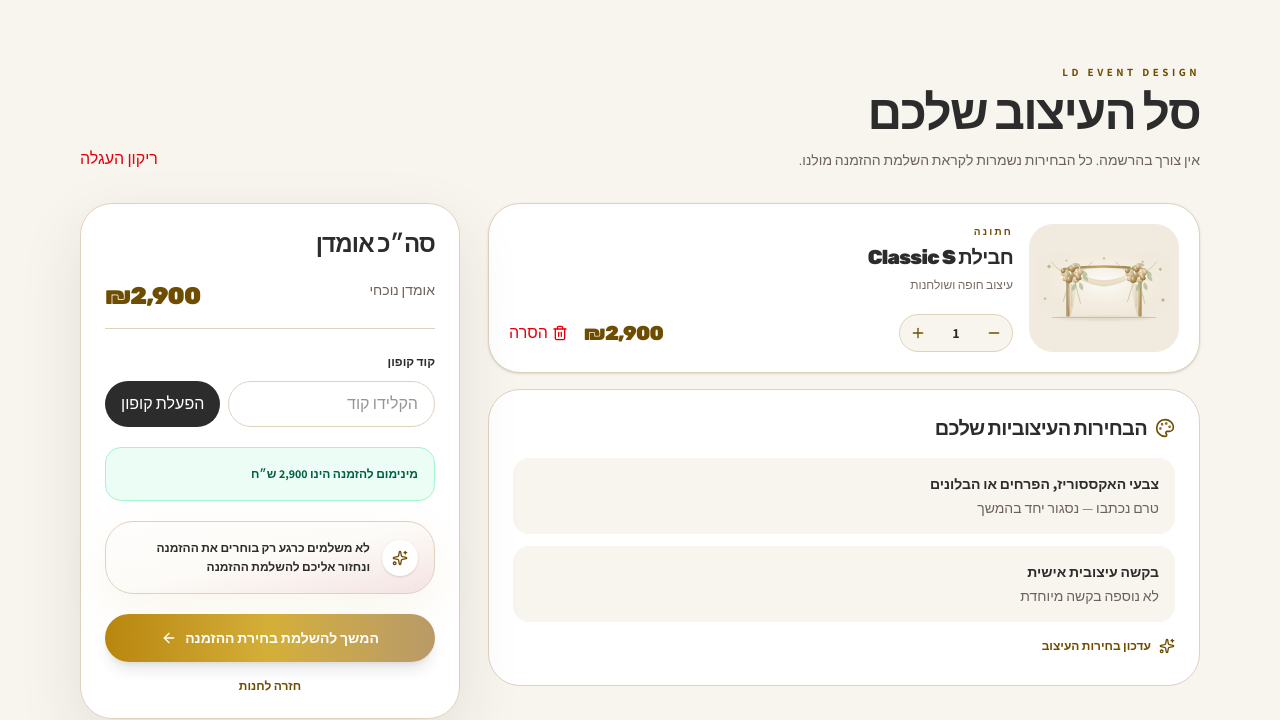
Test case: CartPage › prevents duplicate coupon requests while validation is pending
This screenshot has width=1280, height=720.
Type "candidate" into the field labelled "קוד קופון".
click(332, 404); type("candidate")  # box x1=228 y1=381 x2=435 y2=427
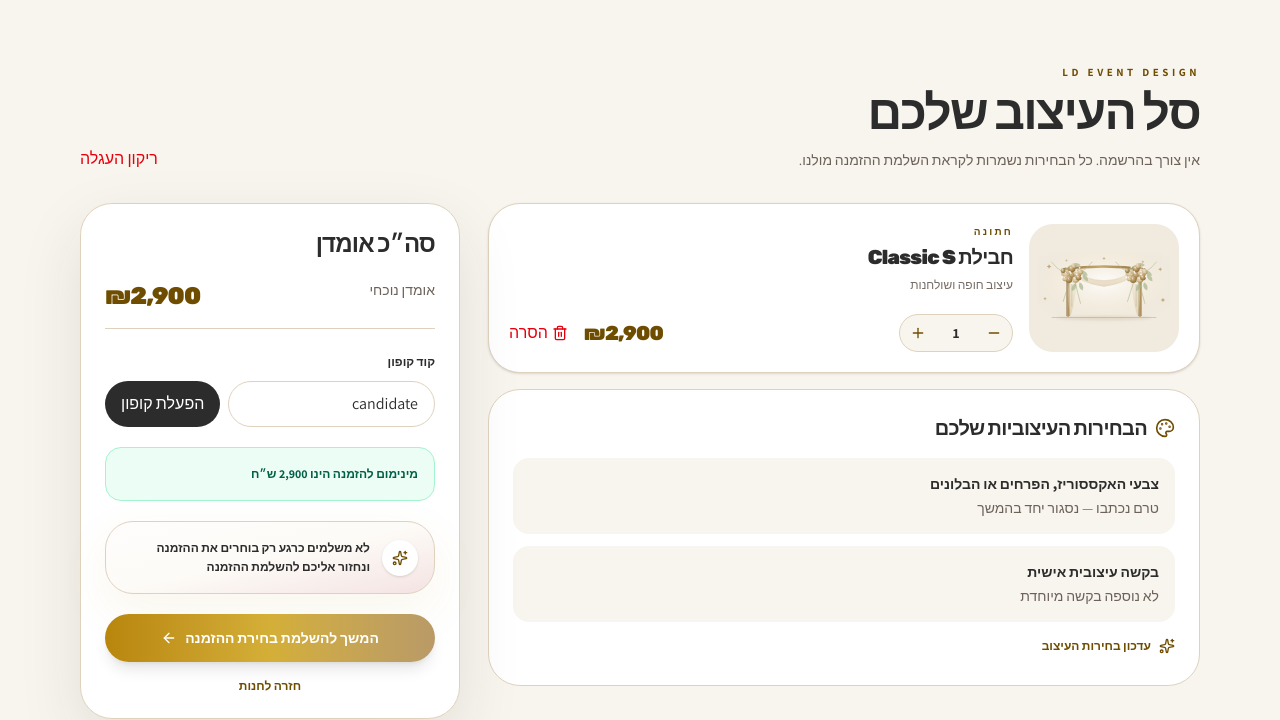
Click the button "הפעלת קופון".
click(163, 404)  # box x1=105 y1=381 x2=220 y2=427
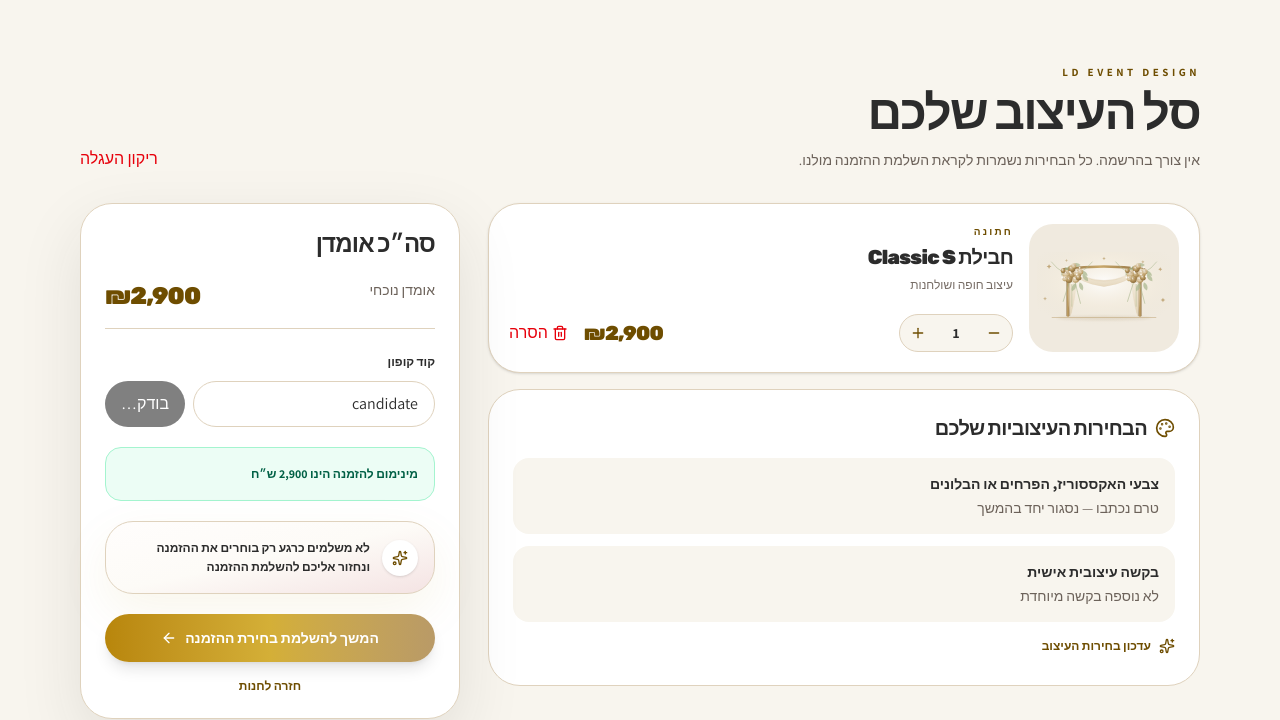
Expected: the button "בודק…" is disabled
Click the button "בודק…".
click(145, 404)  # box x1=105 y1=381 x2=185 y2=427
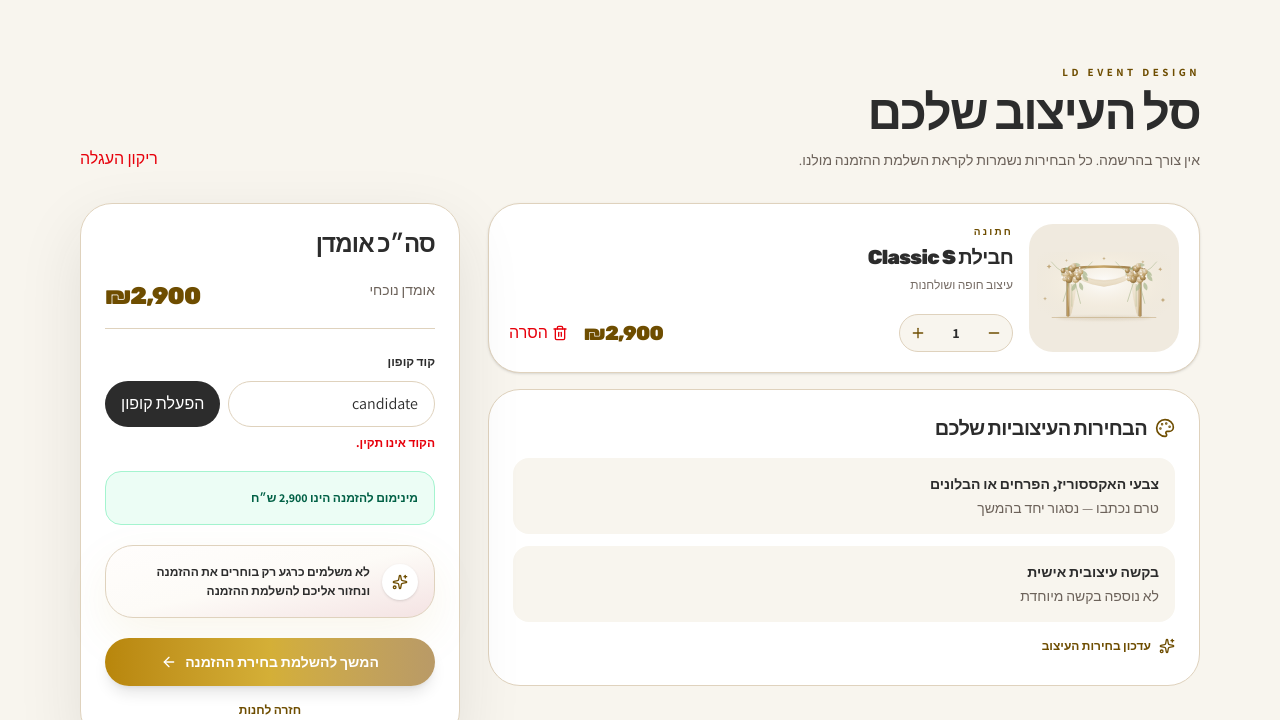
Expected: the message "הקוד אינו תקין." is shown, x1=356 y1=435 x2=435 y2=450
